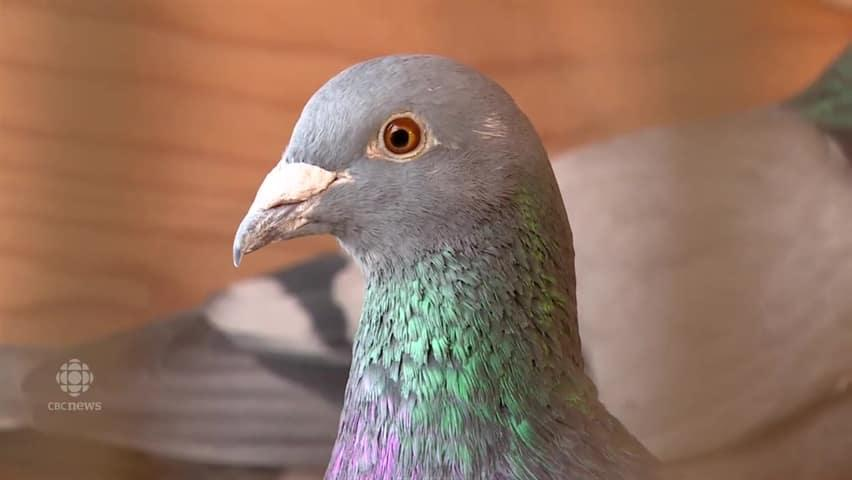Flying Rat: (224, 51, 660, 480)
